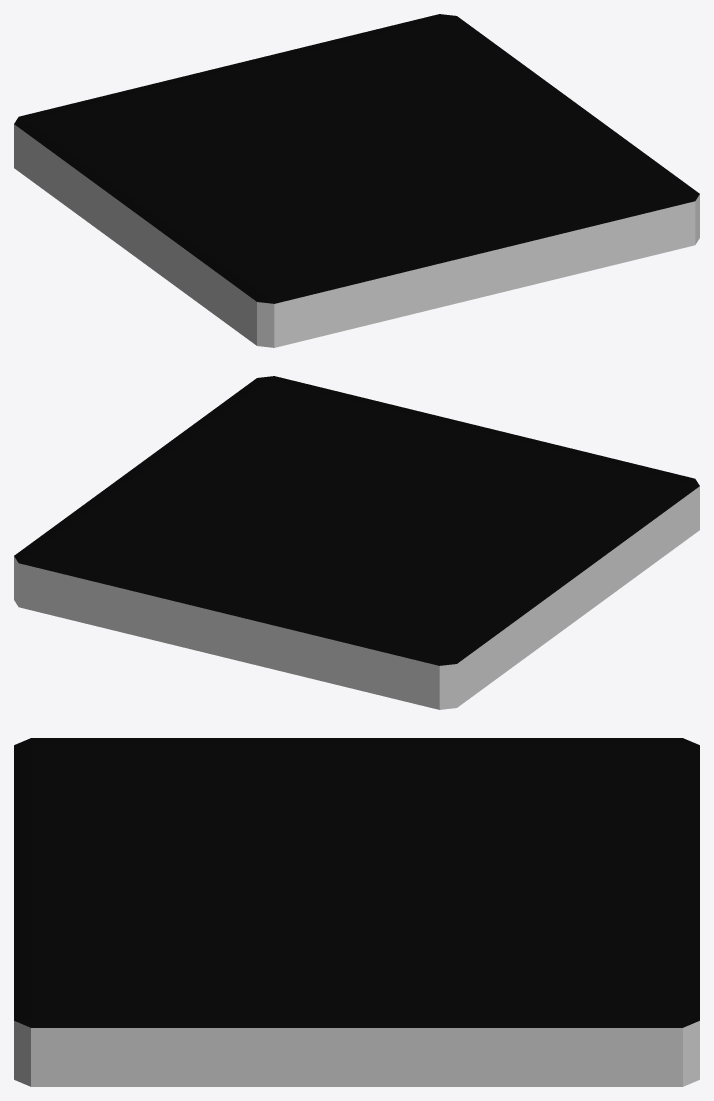
Rendered from beveled_tile.glb.
The picture shows the model from 3 angles, top to bottom: view 1: azimuth 30°, elevation 25°; view 2: azimuth 150°, elevation 25°; view 3: azimuth 270°, elevation 25°; orthographic projection. The views are drawn at different scales.
Visible parts, largest first — view 1: Cube_Cube.001; view 2: Cube_Cube.001; view 3: Cube_Cube.001.
Boxes of the visible parts, bbox=[...] form: Cube_Cube.001: bbox=[14, 14, 699, 347]; Cube_Cube.001: bbox=[14, 376, 699, 709]; Cube_Cube.001: bbox=[14, 738, 699, 1086].
Bounding box in the file's own units: 1 × 0.1 × 1.
Materials: 2 (1 with a texture image).
